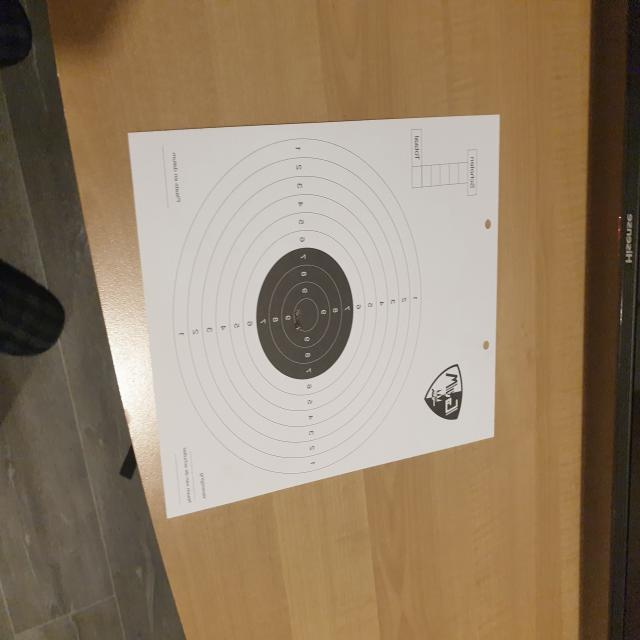10: (294, 320, 302, 332), (294, 308, 302, 319)
Target: (172, 138, 422, 474)
black_contour: (256, 248, 354, 380)
